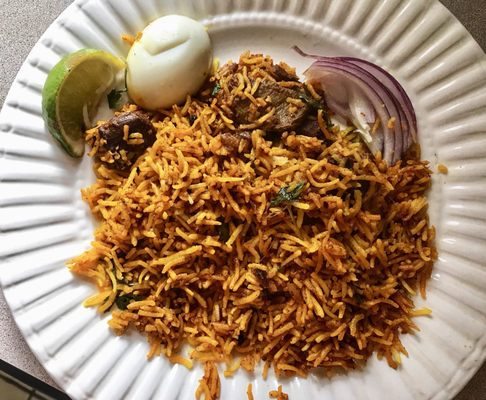sushi: (61, 28, 439, 389)
